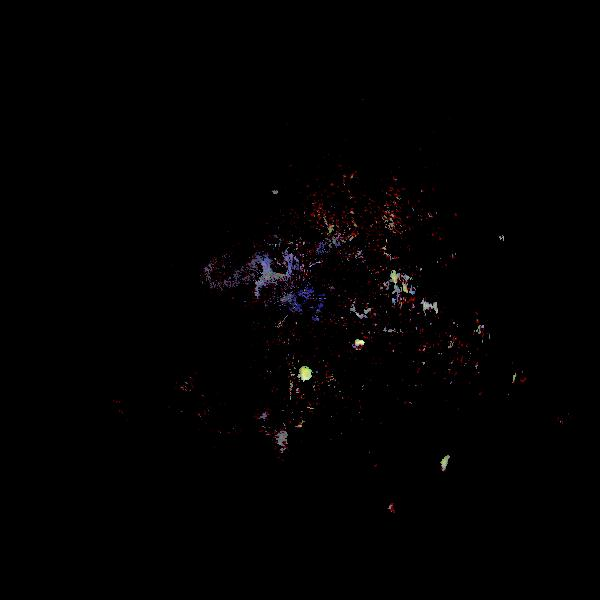roost: (437, 450, 470, 483), (388, 264, 421, 297), (296, 364, 314, 382), (387, 501, 402, 516), (354, 338, 366, 350)
